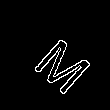M_NE: (24, 22, 94, 91)
